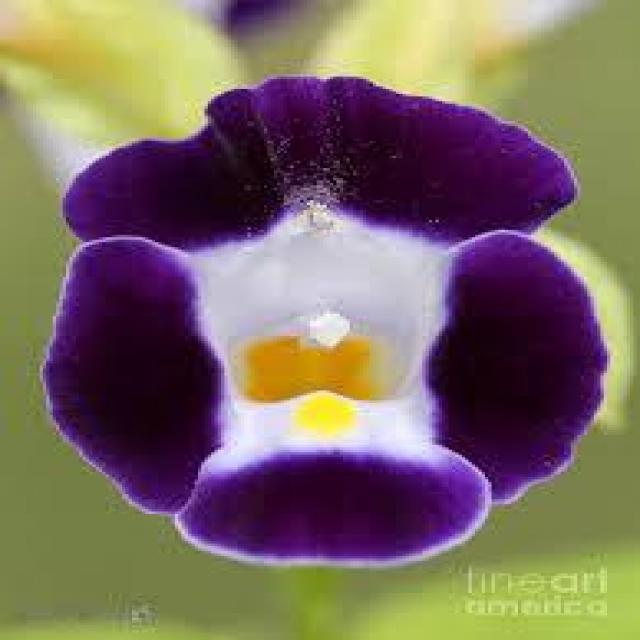organic waste: (57, 74, 608, 568)
